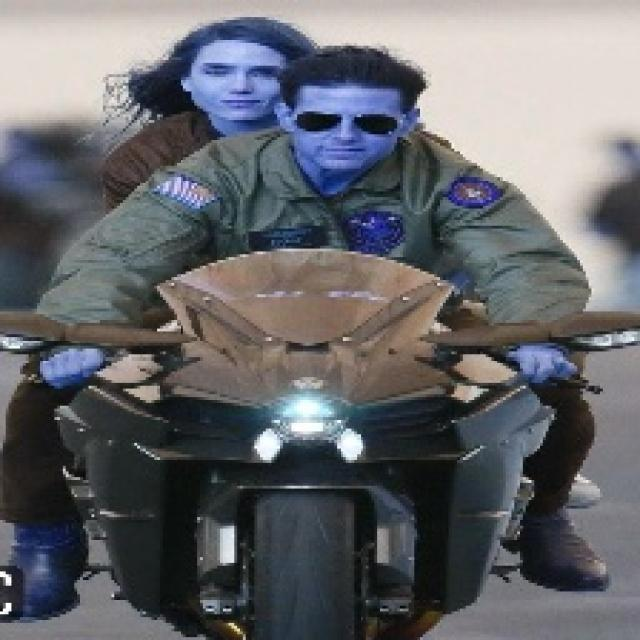bike: (55, 261, 559, 633)
